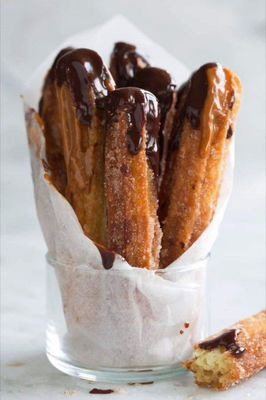pizza: (31, 60, 240, 390)
